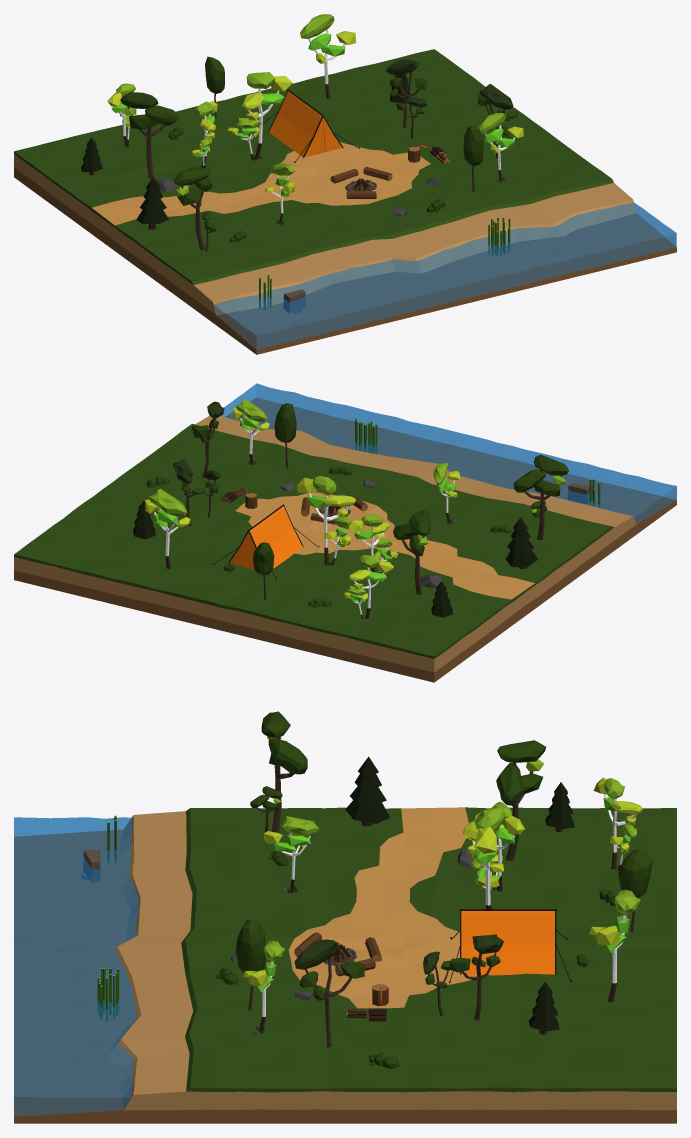
The model's file is lowpoly-camping-in-the-woods.quads.fbx.
3 renders of one model, top to bottom at view 1: azimuth 30°, elevation 25°; view 2: azimuth 150°, elevation 25°; view 3: azimuth 270°, elevation 25°, orthographic. The views are drawn at different scales.
Visible parts, largest first — view 1: 0000, 0001, 0005, 0004, 0018, 0006, 0016, 0010, 0015, 0007, 0017, 0009 (+5 smaller); view 2: 0000, 0001, 0005, 0018, 0004, 0006, 0016, 0015, 0010, 0014, 0017, 0019 (+5 smaller); view 3: 0000, 0001, 0004, 0018, 0006, 0005, 0015, 0016, 0017, 0014, 0010, 0019 (+5 smaller).
Part boxes in pixels (box(x1,y1,x2,y2)): 0000: box(14, 49, 676, 354); 0001: box(214, 202, 676, 349); 0005: box(191, 72, 292, 167); 0004: box(258, 89, 359, 162); 0018: box(136, 167, 246, 251); 0006: box(81, 92, 179, 192); 0016: box(463, 113, 523, 191); 0010: box(300, 14, 355, 98); 0015: box(386, 59, 428, 138); 0007: box(330, 166, 392, 198); 0017: box(478, 84, 517, 158); 0009: box(259, 274, 305, 313); 0000: box(14, 398, 676, 682); 0001: box(221, 383, 676, 523); 0005: box(297, 476, 398, 572); 0018: box(490, 454, 568, 568); 0004: box(211, 504, 319, 578); 0006: box(393, 510, 452, 617); 0016: box(233, 399, 296, 468); 0015: box(133, 459, 220, 539); 0010: box(145, 488, 190, 568); 0014: box(344, 555, 393, 618); 0017: box(146, 401, 224, 487); 0019: box(433, 463, 460, 524); 0000: box(14, 807, 676, 1123); 0001: box(14, 817, 138, 1116); 0004: box(449, 909, 572, 983); 0018: box(250, 711, 389, 865); 0006: box(457, 740, 574, 867); 0005: box(463, 801, 525, 909); 0015: box(423, 934, 559, 1034); 0016: box(235, 919, 284, 1035); 0017: box(294, 939, 400, 1068); 0014: box(593, 777, 642, 870); 0010: box(589, 889, 640, 1002); 0019: box(263, 816, 319, 892).
Size of the model in its own units: 3000 by 757 by 3000.
